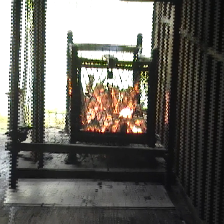fire_h: (81, 83, 138, 132)
fire_l: (127, 119, 145, 133), (165, 90, 170, 123), (67, 78, 72, 95)
